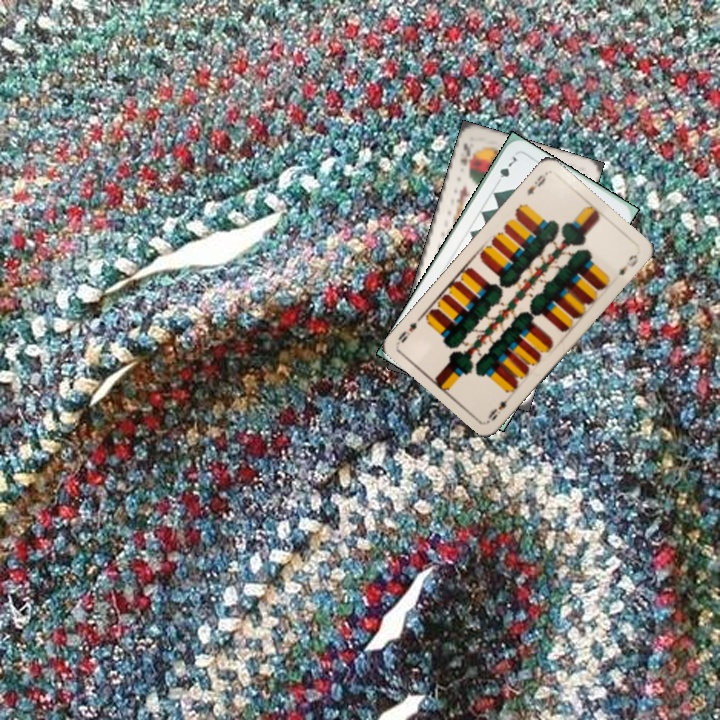E9: (484, 390, 515, 424), (523, 169, 549, 198)
G7: (492, 152, 519, 188)
SK: (455, 139, 476, 175)
